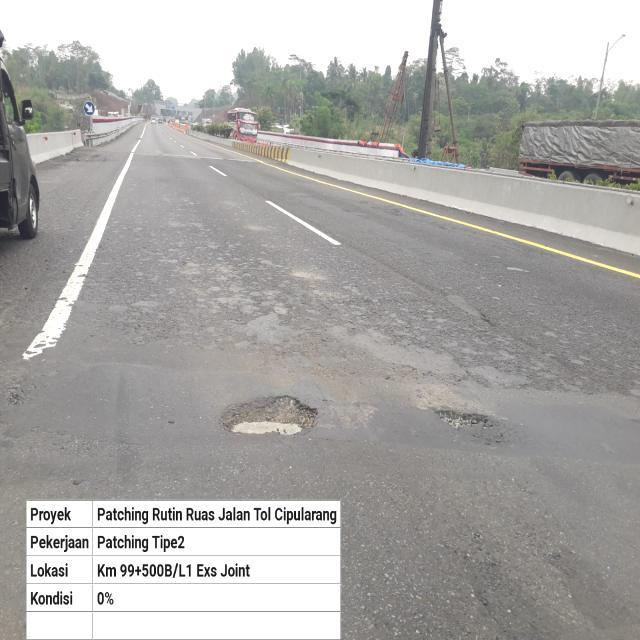Buraco: (216, 393, 322, 439), (431, 408, 497, 432)
